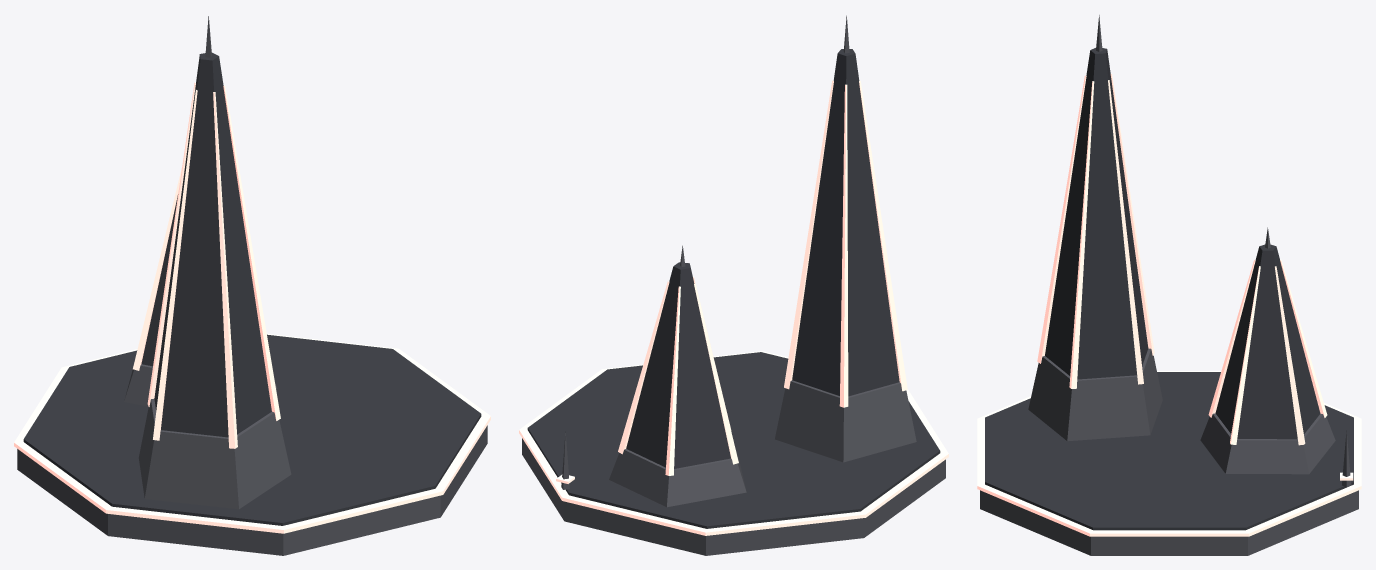
Rendered from zone_high_2_t1.glb.
3 views of the same model, side by side, from view 1: azimuth 30°, elevation 25°; view 2: azimuth 150°, elevation 25°; view 3: azimuth 270°, elevation 25° (orthographic). The views are drawn at different scales.
Parts seen in each view (by area): view 1: zone_high_2_t1; view 2: zone_high_2_t1; view 3: zone_high_2_t1.
Part boxes in pixels (x1,y1,x2,y2): zone_high_2_t1: (14, 16, 490, 555); zone_high_2_t1: (519, 15, 948, 555); zone_high_2_t1: (977, 15, 1361, 555).
Bounding box in the file's own units: 27.35 × 33.46 × 27.35.
